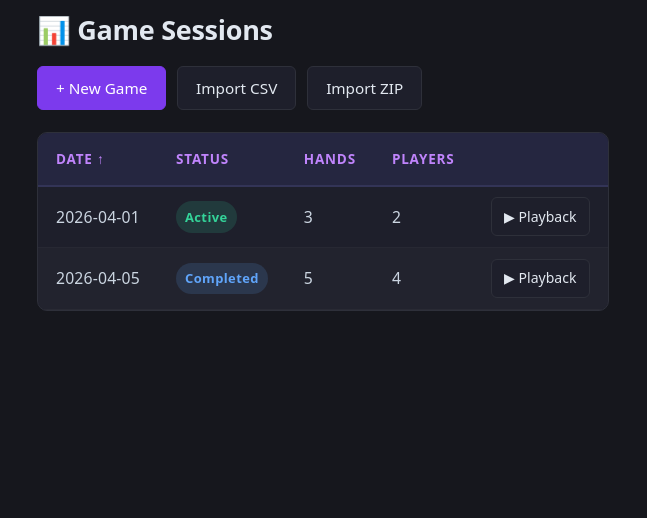
Test: DataView › expands session row to show hands on click
The image size is (647, 518).
Step 1. Click the text "2026-04-01" → (98, 217), box x1=38 y1=187 x2=158 y2=248
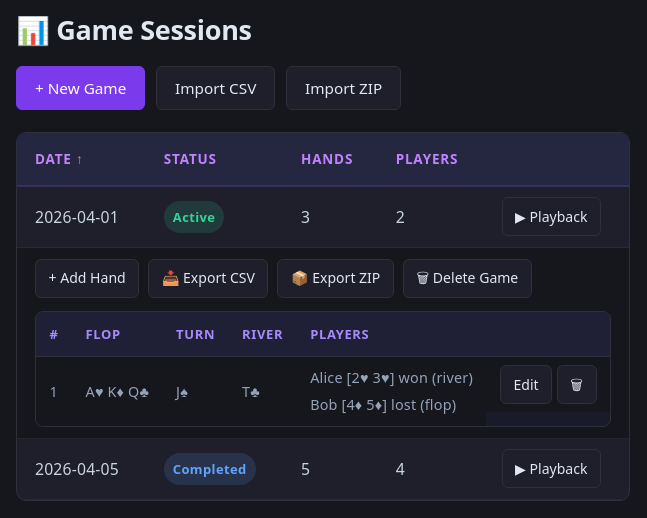
Check: the button "+ Add Hand" is shown, box x1=35 y1=259 x2=139 y2=298
